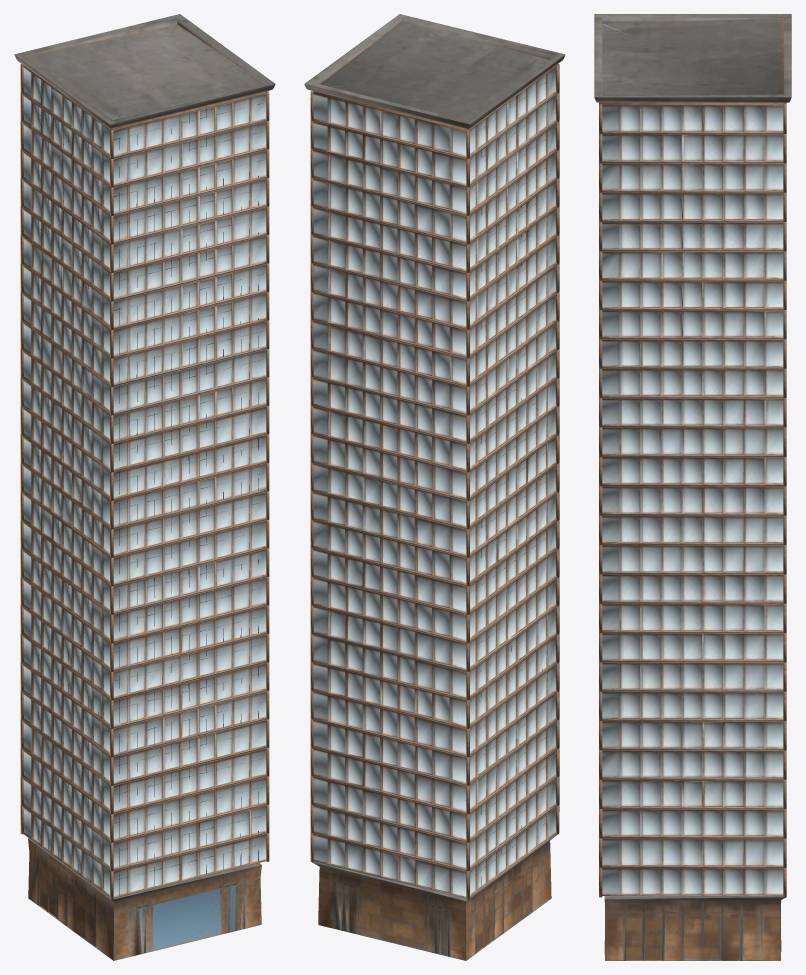
Rendered from skyscraper-02.glb.
The picture shows the model from 3 angles, left to right: view 1: azimuth 30°, elevation 25°; view 2: azimuth 150°, elevation 25°; view 3: azimuth 270°, elevation 25°; orthographic projection. The views are drawn at different scales.
Parts seen in each view (by area): view 1: Skyscraper-02_Bake1_PBR; view 2: Skyscraper-02_Bake1_PBR; view 3: Skyscraper-02_Bake1_PBR.
Part boxes in pixels (x1,y1,x2,y2): Skyscraper-02_Bake1_PBR: (14, 14, 275, 960); Skyscraper-02_Bake1_PBR: (304, 14, 565, 960); Skyscraper-02_Bake1_PBR: (594, 14, 791, 960).
Size of the model in its own units: 21.32 by 103 by 21.27.
Materials: 1 (1 with a texture image).
